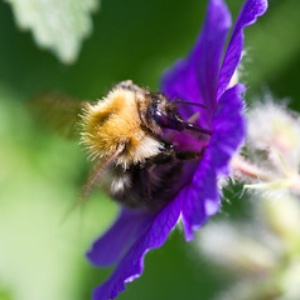bee: (77, 76, 212, 204)
